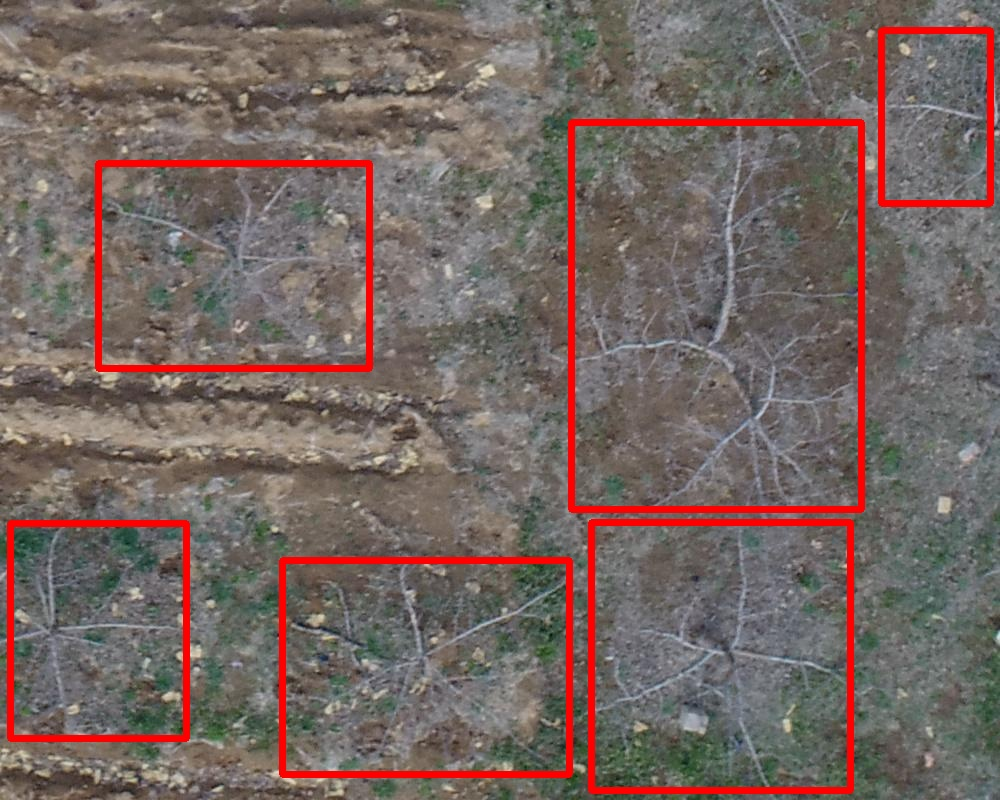apple: (571, 122, 861, 509), (591, 522, 850, 790), (282, 560, 569, 774), (98, 163, 369, 368), (10, 523, 186, 738), (881, 30, 990, 203)
